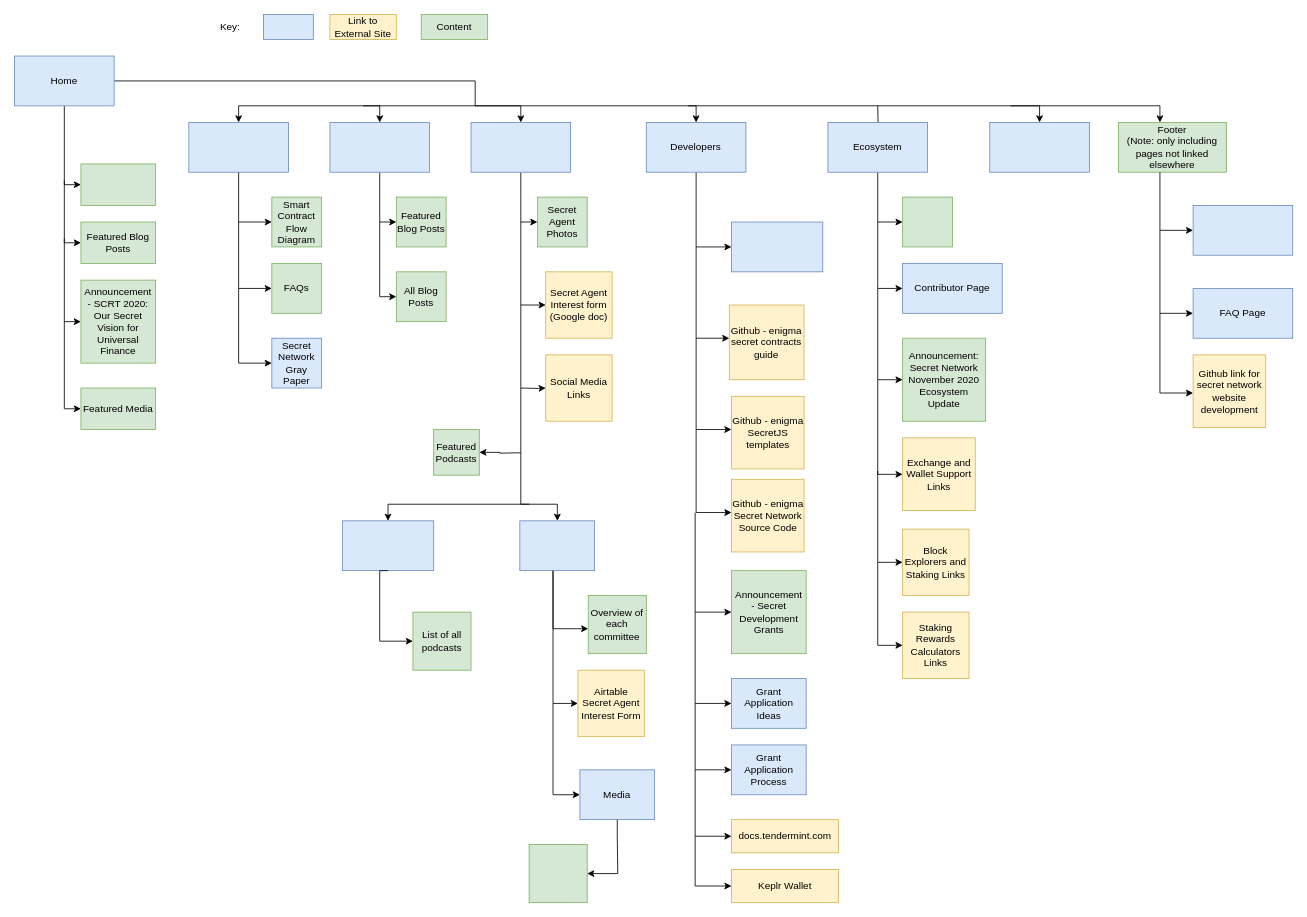
This 1307x917 diagram has some shape labels left out. Each missing label, with the centre of its shape:
About: the point at 238,147
Blog: the point at 379,147
Branding Page: the point at 1242,230
Committees: the point at 557,545
Community: the point at 520,147
Featured Podcasts and Videos: the point at 557,873
Forum: the point at 1039,147
List of top contributors: the point at 927,221
Quickstart build.scrt.network: the point at 777,246
SecretSwap Announcement: the point at 118,184
Sharing Secrets Podcast: the point at 388,545
Site Page: the point at 288,26
